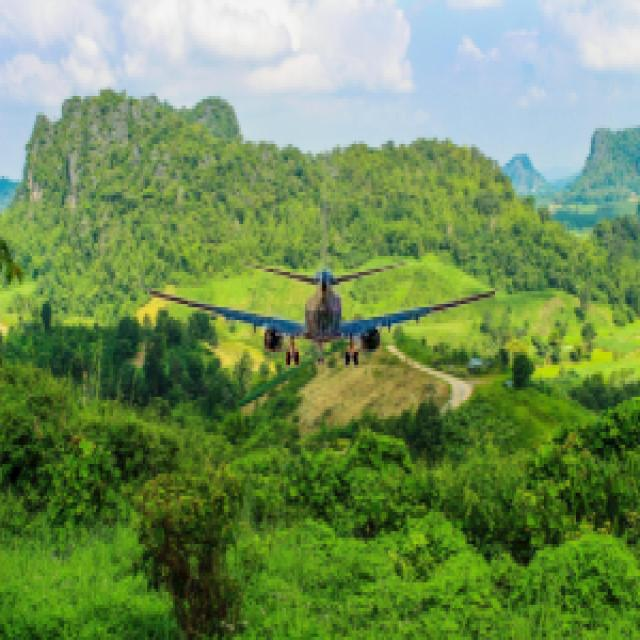plane: (142, 241, 505, 374)
